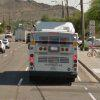Bus: (20, 27, 84, 87)
